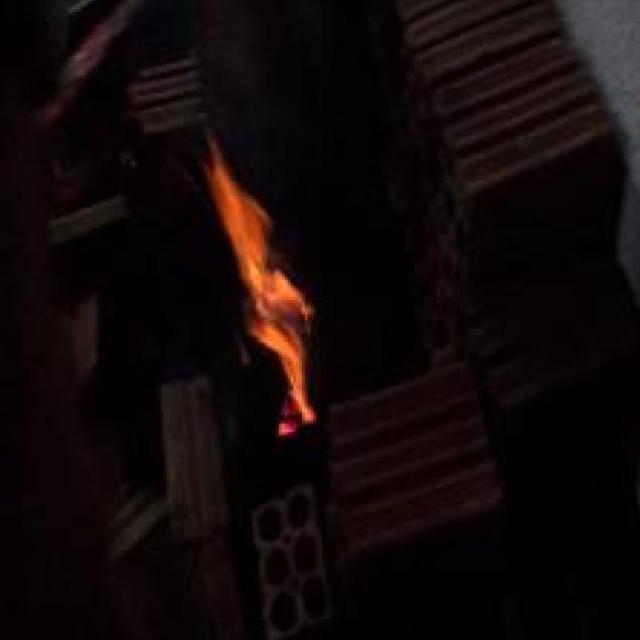smoke: (201, 130, 322, 436)
